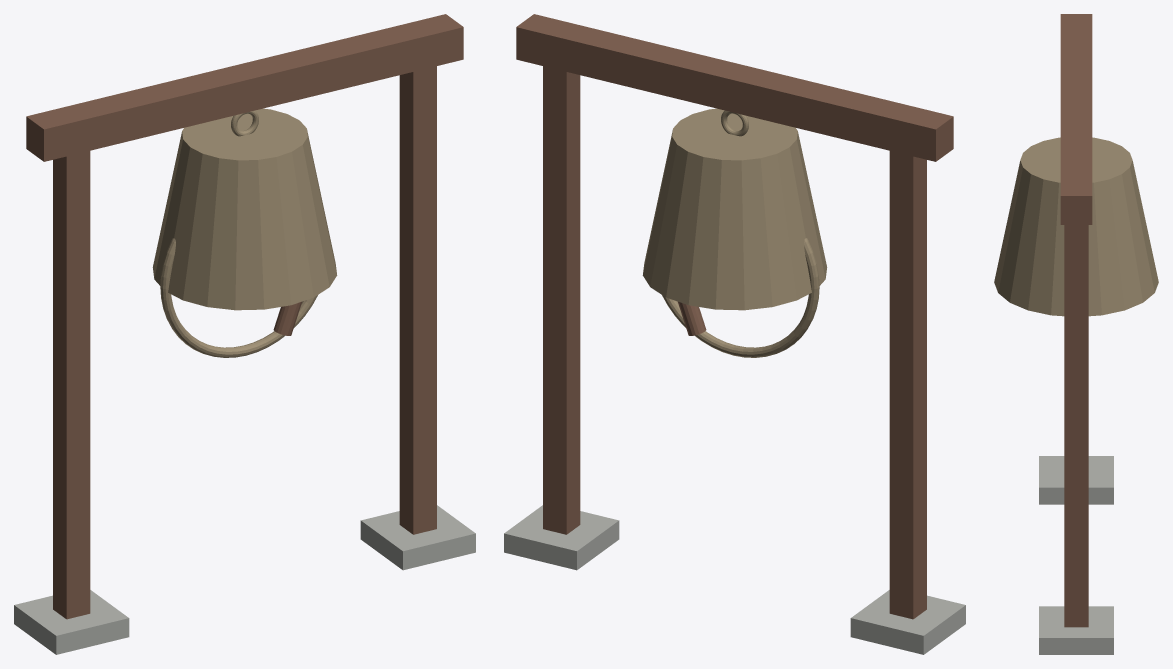
The model's file is bronze_bell.glb.
3 renders of one model, left to right at view 1: azimuth 30°, elevation 25°; view 2: azimuth 150°, elevation 25°; view 3: azimuth 270°, elevation 25°, orthographic. The views are drawn at different scales.
Parts seen in each view (by area): view 1: bronze_bell; view 2: bronze_bell; view 3: bronze_bell.
Boxes of the visible parts, x1,y1,x2,y2 form: bronze_bell: (14, 14, 475, 654); bronze_bell: (504, 14, 965, 654); bronze_bell: (994, 14, 1158, 654).
Bounding box in the file's own units: 2.3 × 2.7 × 0.88.
